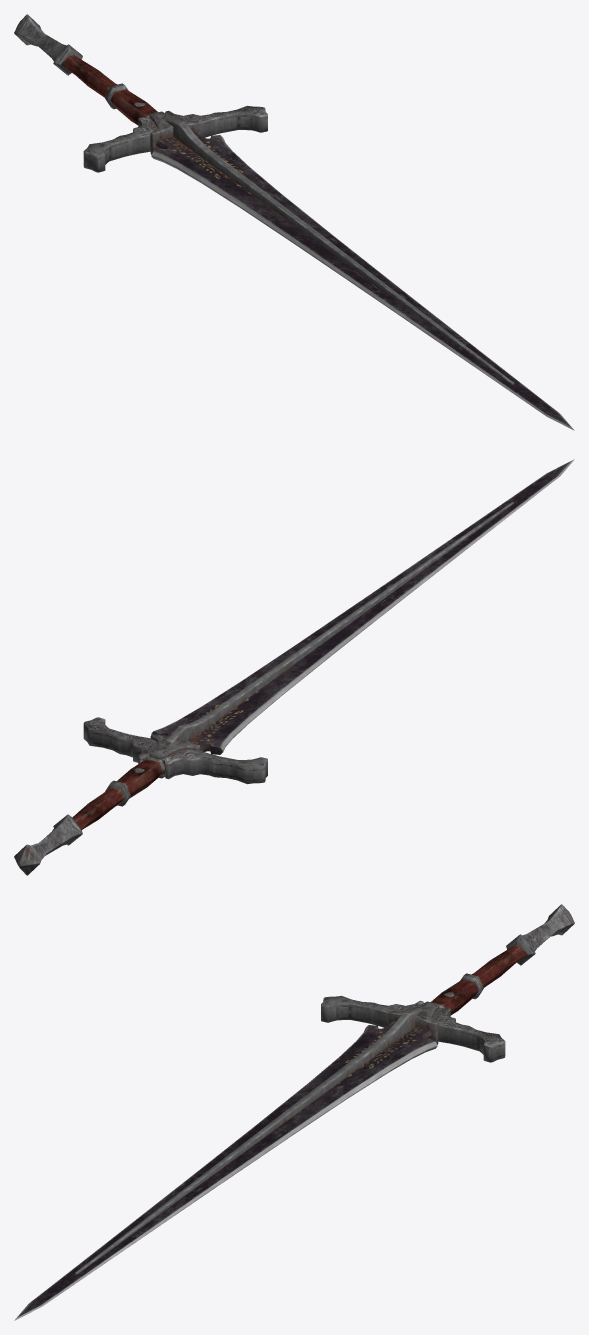
3 views of the same model, one above another, from view 1: azimuth 30°, elevation 25°; view 2: azimuth 150°, elevation 25°; view 3: azimuth 330°, elevation 25° (orthographic).
Parts seen in each view (by area): view 1: WP_A_0609; view 2: WP_A_0609; view 3: WP_A_0609.
Part boxes in pixels (bbox=[...]): WP_A_0609: bbox=[14, 14, 574, 430]; WP_A_0609: bbox=[14, 459, 574, 875]; WP_A_0609: bbox=[14, 904, 574, 1320].
Bounding box in the file's own units: 33 × 6.92 × 175.
Materials: 1 (1 with a texture image).
